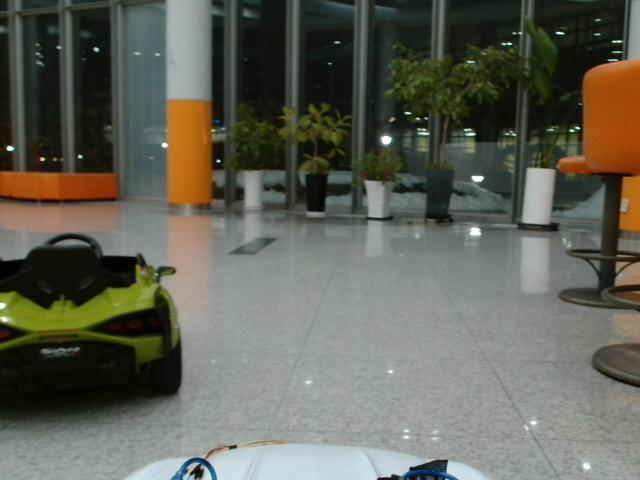car: (1, 233, 183, 422)
